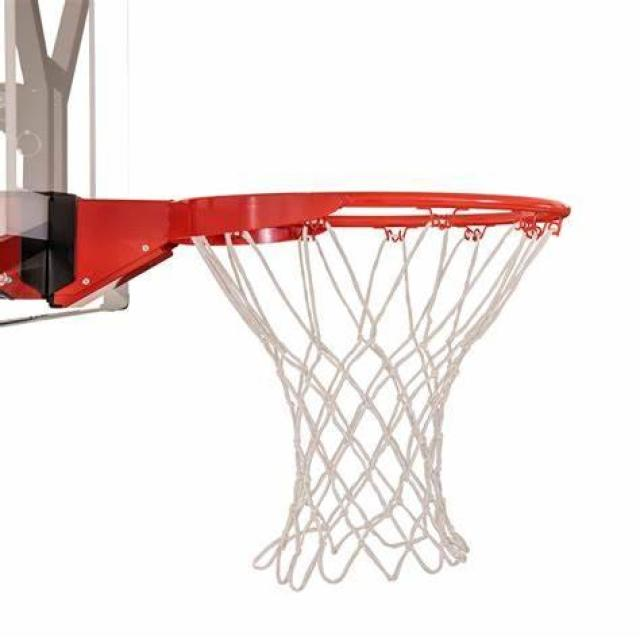hoop: (102, 136, 565, 587)
